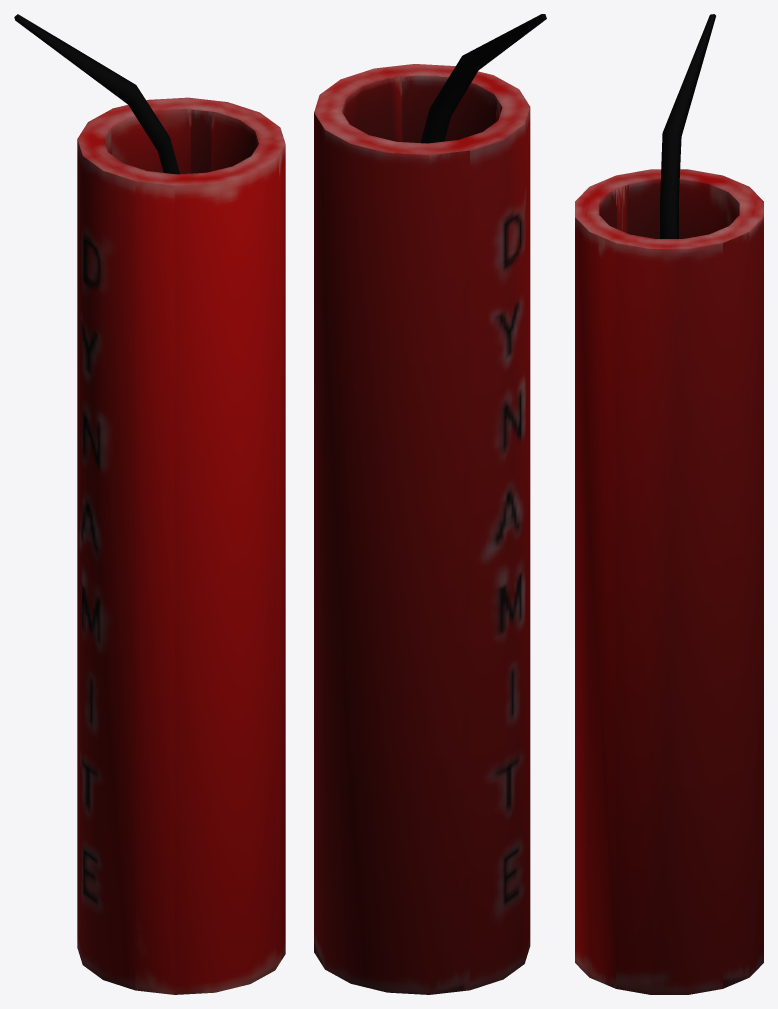
File: MESH_FB_Dynamite.fbx
3 views of the same model, side by side, from view 1: azimuth 30°, elevation 25°; view 2: azimuth 150°, elevation 25°; view 3: azimuth 270°, elevation 25° (orthographic). The views are drawn at different scales.
Visible parts, largest first — view 1: Dynamite; view 2: Dynamite; view 3: Dynamite.
Part boxes in pixels (x1=…): Dynamite: x1=14, y1=14, x2=285, y2=994; Dynamite: x1=314, y1=14, x2=546, y2=994; Dynamite: x1=575, y1=14, x2=763, y2=994.
Size of the model in its own units: 30.78 by 121 by 23.52.
